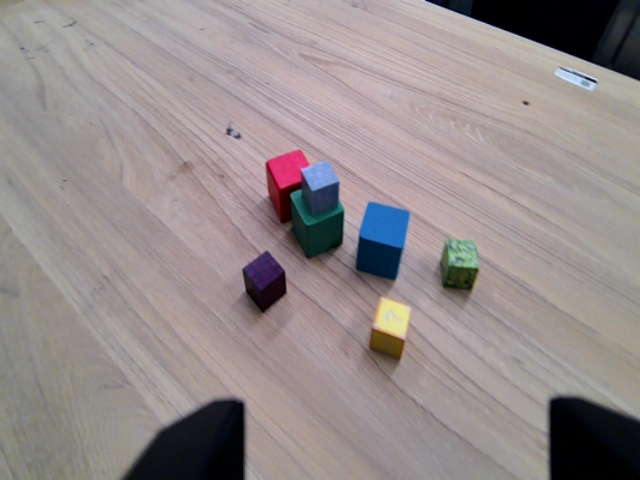brick: (240, 250, 291, 310)
grass: (440, 238, 479, 284)
lucky: (372, 294, 411, 357)
stone: (303, 160, 338, 211)
